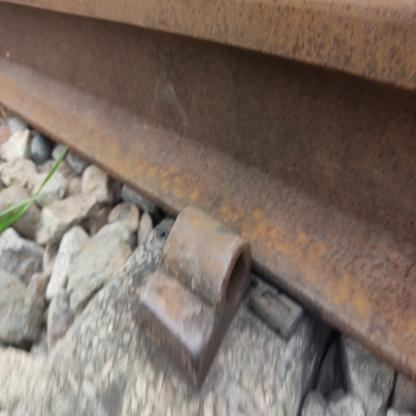Defective: (103, 168, 322, 401)
